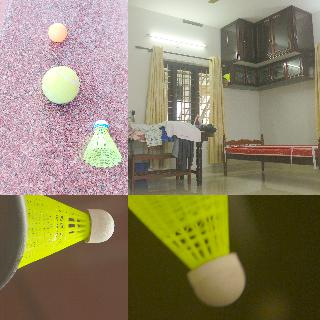shuttlecock: (128, 195, 245, 307), (22, 195, 114, 267), (83, 119, 121, 167), (222, 73, 230, 81)
